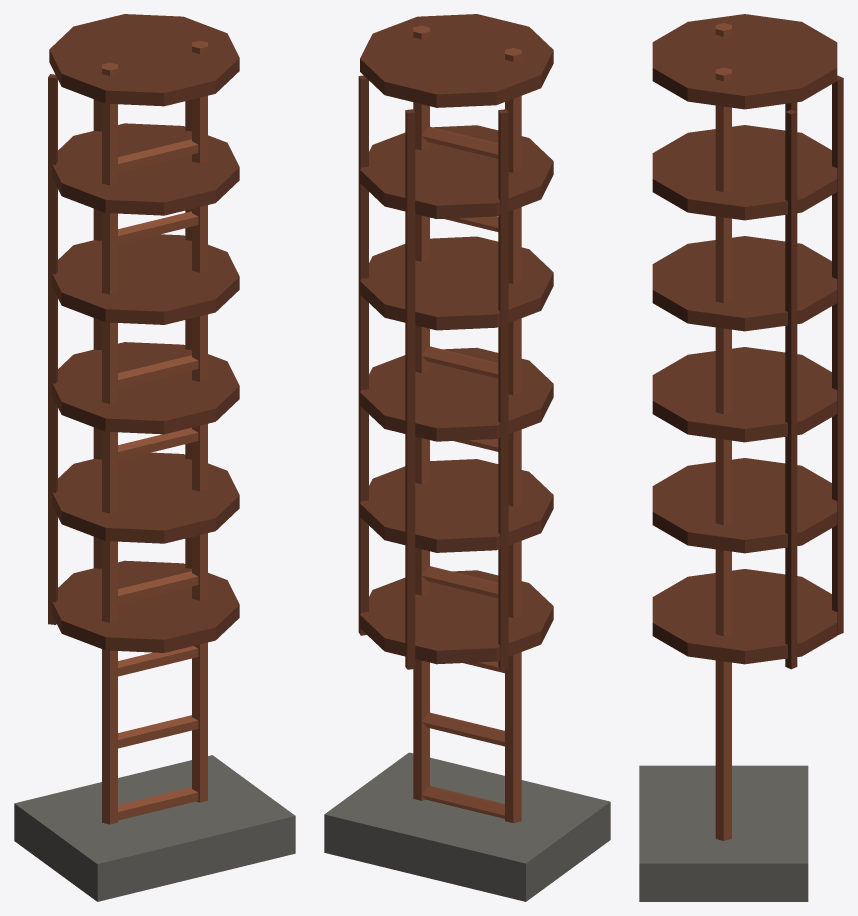
File: K_LadderTall.glb
The picture shows the model from 3 angles, left to right: view 1: azimuth 30°, elevation 25°; view 2: azimuth 150°, elevation 25°; view 3: azimuth 270°, elevation 25°; orthographic projection.
Visible parts, largest first — view 1: K_LadderTall_Fixtures, K_LadderTall_Structure, K_LadderTall_Foundation; view 2: K_LadderTall_Fixtures, K_LadderTall_Foundation, K_LadderTall_Structure; view 3: K_LadderTall_Fixtures, K_LadderTall_Foundation, K_LadderTall_Structure.
Boxes of the visible parts, x1,y1,x2,y2 form: K_LadderTall_Fixtures: [48, 14, 239, 652]; K_LadderTall_Structure: [102, 40, 207, 824]; K_LadderTall_Foundation: [14, 755, 295, 901]; K_LadderTall_Fixtures: [358, 14, 553, 669]; K_LadderTall_Foundation: [324, 752, 610, 901]; K_LadderTall_Structure: [413, 25, 521, 823]; K_LadderTall_Fixtures: [652, 14, 843, 669]; K_LadderTall_Foundation: [639, 765, 808, 901]; K_LadderTall_Structure: [715, 23, 731, 840].
Size of the model in its own units: 1.1 by 4.2 by 0.968.
